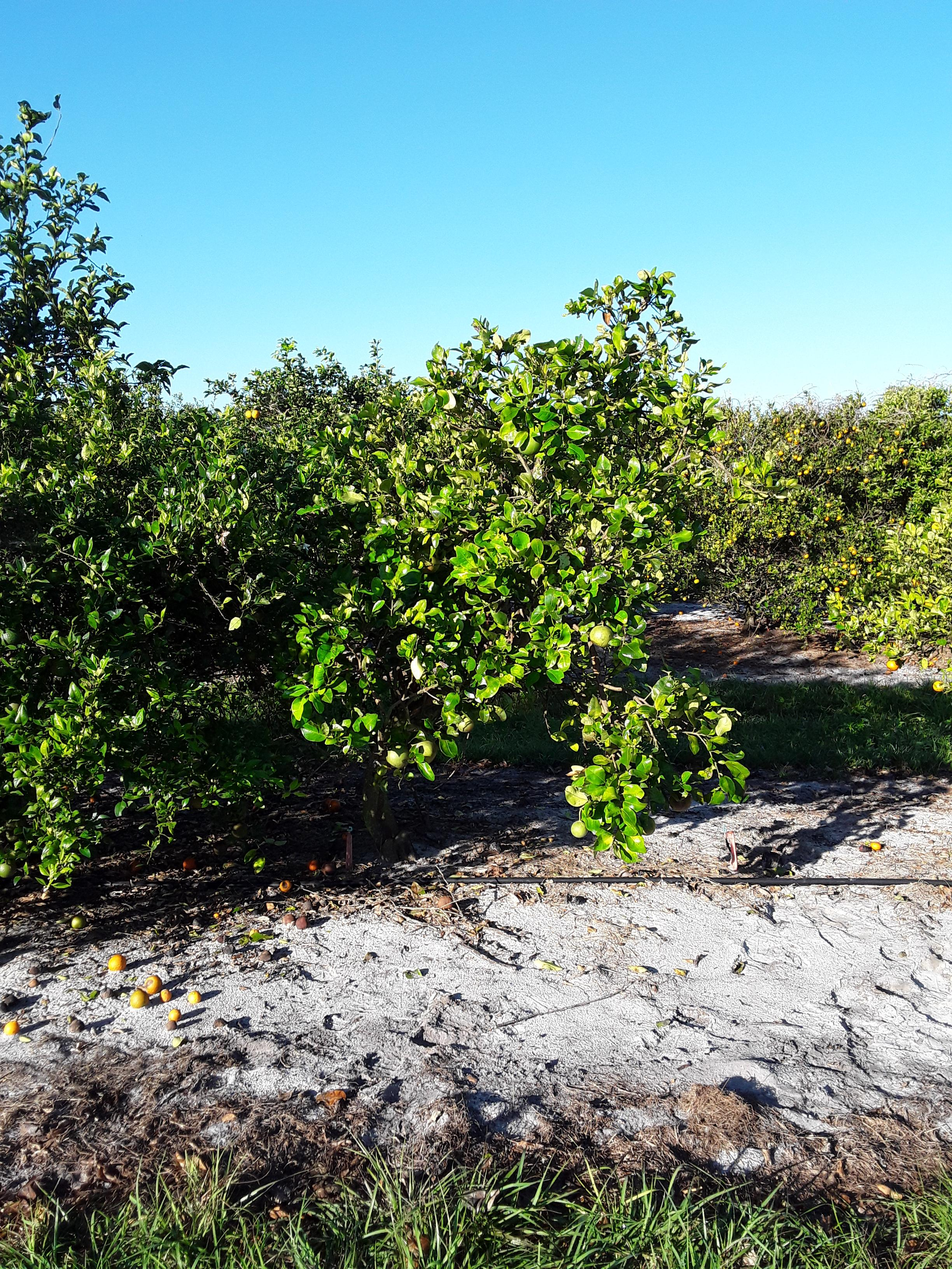fruit_on_ground: (413, 549, 445, 575), (411, 738, 440, 766), (382, 742, 412, 769), (513, 430, 544, 456), (584, 623, 616, 647), (665, 789, 692, 816), (455, 710, 477, 736), (569, 815, 589, 841), (1, 626, 23, 649), (636, 813, 657, 837), (630, 720, 650, 741), (580, 724, 601, 744), (46, 565, 65, 586), (601, 735, 623, 753), (1, 858, 18, 879)
fruit_on_tree: (315, 1090, 351, 1110), (142, 974, 164, 995), (105, 954, 129, 973), (229, 822, 250, 840), (130, 990, 151, 1008), (69, 914, 89, 932), (2, 1021, 24, 1037), (96, 985, 118, 1000), (3, 990, 18, 1012), (327, 800, 343, 820), (295, 914, 312, 932), (320, 862, 340, 877), (24, 976, 44, 991), (66, 1020, 86, 1033), (187, 990, 203, 1006), (164, 1016, 179, 1033), (182, 856, 197, 872), (281, 911, 296, 927), (191, 915, 207, 930), (256, 949, 273, 963), (439, 894, 454, 909), (245, 928, 261, 942), (222, 942, 236, 958), (168, 1008, 182, 1023), (307, 856, 320, 872), (214, 1015, 230, 1028), (215, 930, 229, 944), (278, 880, 291, 895), (26, 965, 41, 978), (159, 987, 172, 1002), (88, 794, 103, 806), (128, 861, 143, 872), (212, 910, 222, 923), (167, 948, 180, 958)
